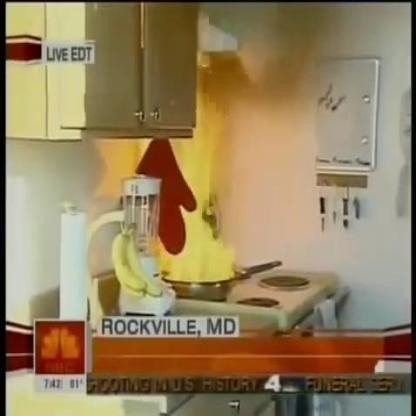fire: (144, 104, 244, 283)
